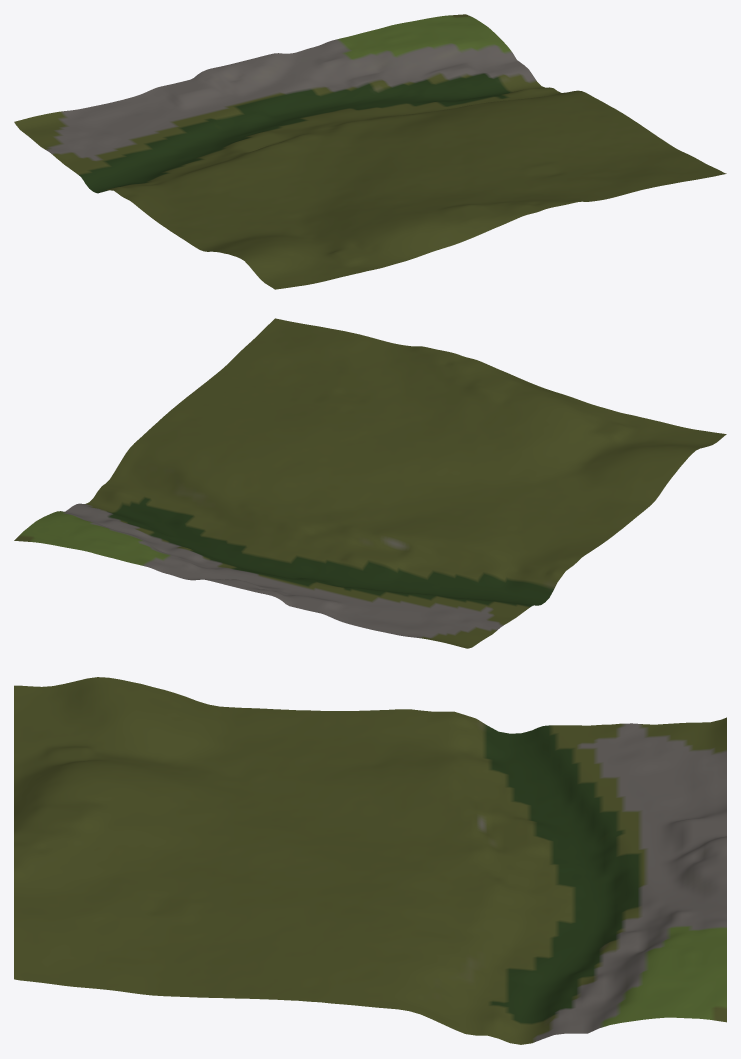
The model's file is terrain_16_-10.glb.
3 renders of one model, top to bottom at view 1: azimuth 30°, elevation 25°; view 2: azimuth 150°, elevation 25°; view 3: azimuth 270°, elevation 25°, orthographic. The views are drawn at different scales.
Parts seen in each view (by area): view 1: terrain_16_-10; view 2: terrain_16_-10; view 3: terrain_16_-10.
Part boxes in pixels (x1=…): terrain_16_-10: x1=14, y1=14, x2=726, y2=289; terrain_16_-10: x1=14, y1=318, x2=726, y2=648; terrain_16_-10: x1=14, y1=677, x2=726, y2=1044.
Size of the model in its own units: 256 by 30.81 by 256.
